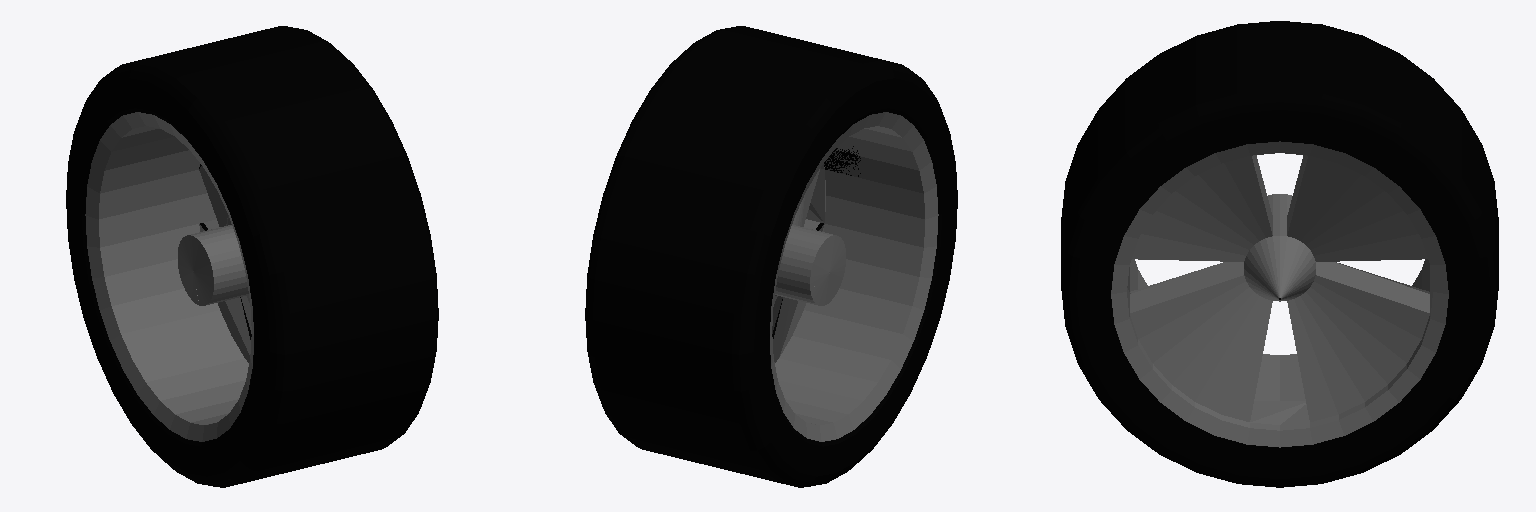
Rendered from super_dozer_rear_wheel.obj.
The picture shows the model from 3 angles: view 1: azimuth 30°, elevation 25°; view 2: azimuth 150°, elevation 25°; view 3: azimuth 270°, elevation 25°; orthographic projection.
Visible parts, largest first — view 1: Cylinder.004; view 2: Cylinder.004; view 3: Cylinder.004.
Part boxes in pixels (x1,y1,x2,y2): Cylinder.004: (66, 26, 438, 487); Cylinder.004: (585, 26, 957, 487); Cylinder.004: (1061, 21, 1498, 487).
Size of the model in its own units: 1.73 by 3.75 by 3.75.